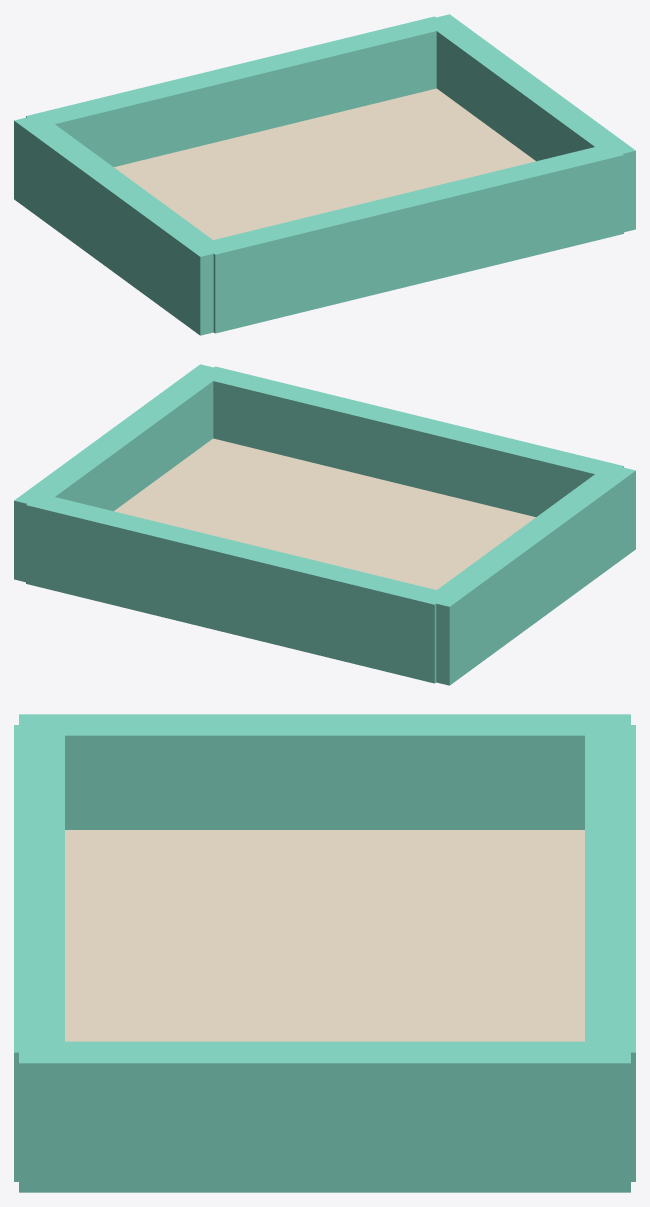
The picture shows the model from 3 angles, top to bottom: view 1: azimuth 30°, elevation 25°; view 2: azimuth 150°, elevation 25°; view 3: azimuth 270°, elevation 25°; orthographic projection. The views are drawn at different scales.
Parts seen in each view (by area): view 1: End lip, Tray floor, End lip.001, Side lip, Side lip.001; view 2: End lip.001, Tray floor, End lip, Side lip, Side lip.001; view 3: Tray floor, Side lip.001, Side lip, End lip.001, End lip.
Part boxes in pixels (left/top/right/bottom): End lip: left=213, top=147, right=623, bottom=333; Tray floor: left=114, top=88, right=535, bottom=239; End lip.001: left=26, top=16, right=449, bottom=166; Side lip: left=14, top=117, right=226, bottom=335; Side lip.001: left=436, top=14, right=635, bottom=232; End lip.001: left=26, top=493, right=449, bottom=683; Tray floor: left=114, top=438, right=535, bottom=589; End lip: left=213, top=366, right=623, bottom=516; Side lip: left=436, top=464, right=635, bottom=685; Side lip.001: left=14, top=364, right=226, bottom=582; Tray floor: left=65, top=830, right=584, bottom=1041; Side lip.001: left=19, top=1041, right=630, bottom=1192; Side lip: left=19, top=714, right=630, bottom=829; End lip.001: left=585, top=725, right=635, bottom=1181; End lip: left=14, top=725, right=64, bottom=1181.
Size of the model in its own units: 40.5 by 7.5 by 30.5.
